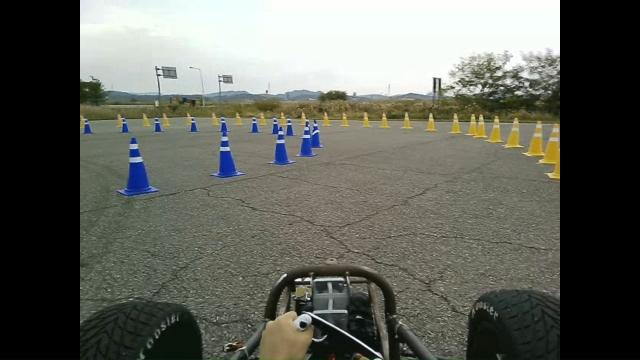blue cone: (117, 137, 159, 196), (210, 130, 245, 178), (267, 128, 296, 166), (295, 122, 318, 157), (310, 119, 322, 148), (285, 118, 295, 136)
yellow cone: (538, 123, 560, 164), (522, 120, 544, 156), (502, 117, 524, 148), (484, 115, 504, 143), (545, 147, 560, 179), (473, 114, 488, 138), (424, 110, 438, 134), (448, 112, 462, 134), (465, 113, 477, 135), (400, 111, 413, 129), (379, 112, 390, 128)
